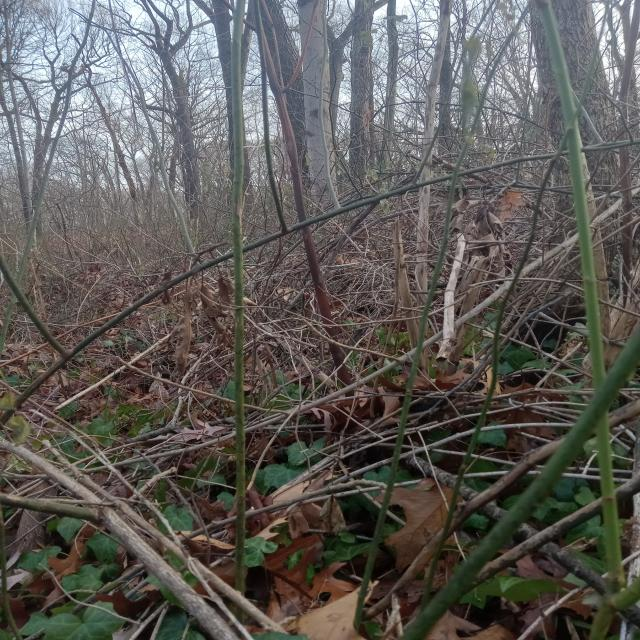bushes: (1, 0, 639, 639)
knotweed-stems: (262, 70, 367, 400)
